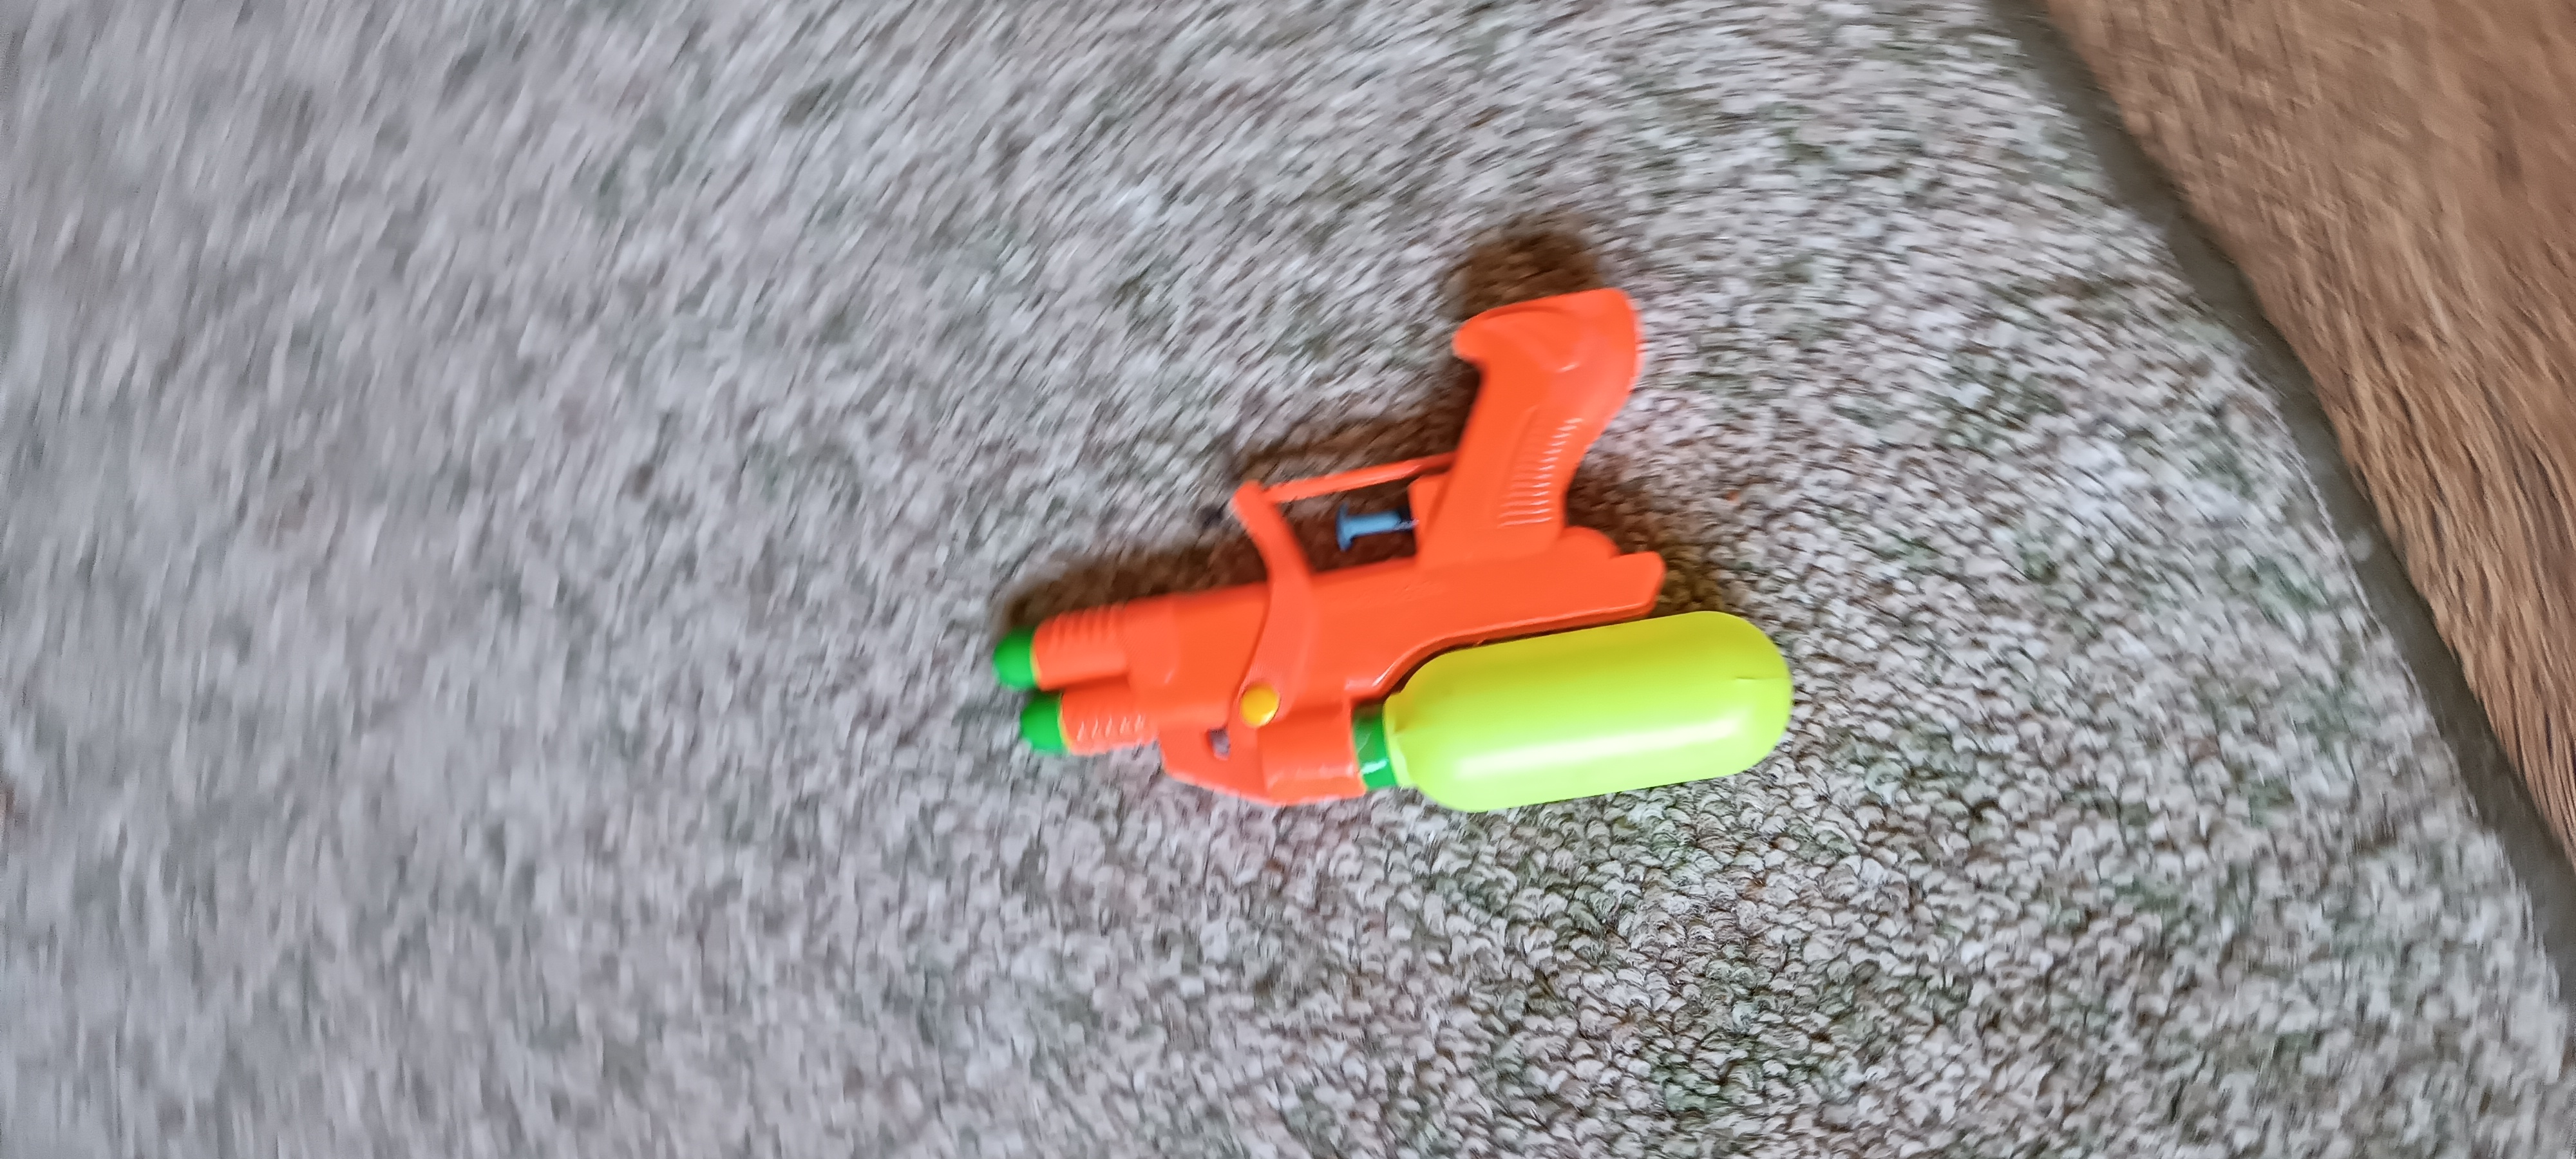Water Gun: (992, 284, 1794, 814)
